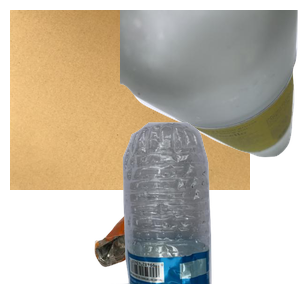cardboard: (10, 10, 250, 190)
glass: (120, 10, 300, 160)
plastic: (111, 120, 300, 300)
trash: (92, 174, 272, 300)
